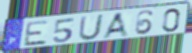0: (161, 8, 181, 33)
5: (51, 17, 76, 44)
6: (134, 9, 156, 36)
A: (101, 11, 131, 39)
E: (22, 20, 50, 48)
U: (77, 14, 105, 42)
